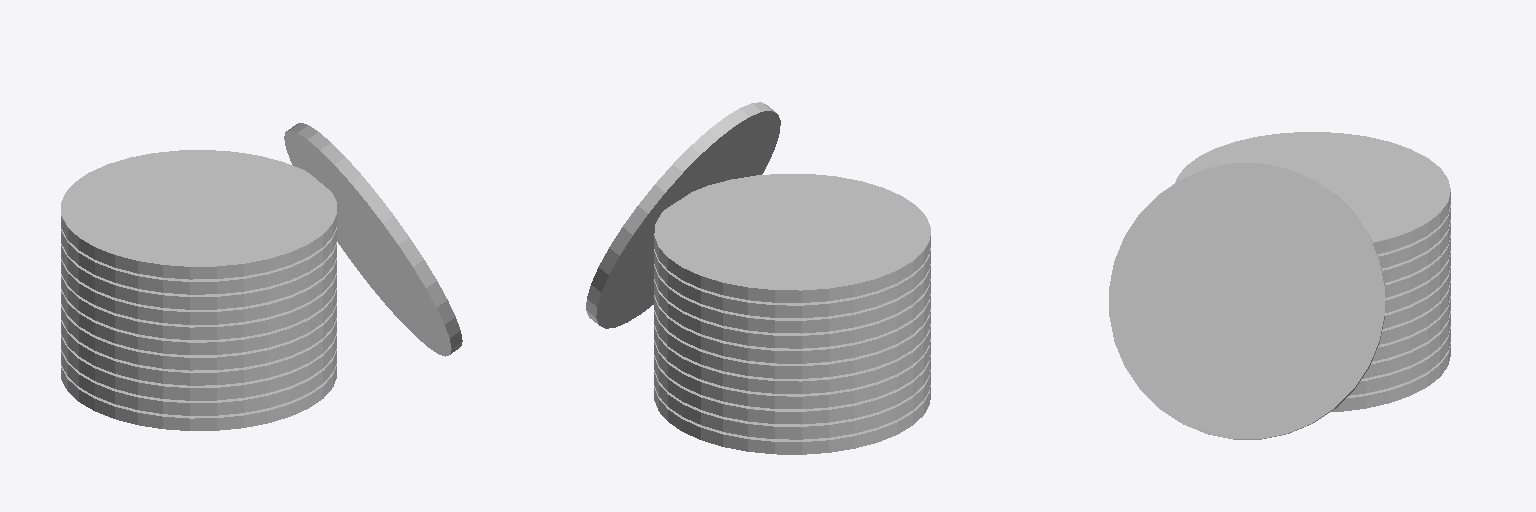
The model's file is coin_stack.obj.
3 renders of one model, left to right at view 1: azimuth 30°, elevation 25°; view 2: azimuth 150°, elevation 25°; view 3: azimuth 270°, elevation 25°, orthographic.
Parts seen in each view (by area): view 1: Cylinder.001; view 2: Cylinder.001; view 3: Cylinder.001.
Boxes of the visible parts, x1,y1,x2,y2 form: Cylinder.001: [61, 123, 462, 430]; Cylinder.001: [586, 102, 930, 454]; Cylinder.001: [1109, 132, 1450, 439].
Size of the model in its own units: 2.68 by 1.89 by 2.47.